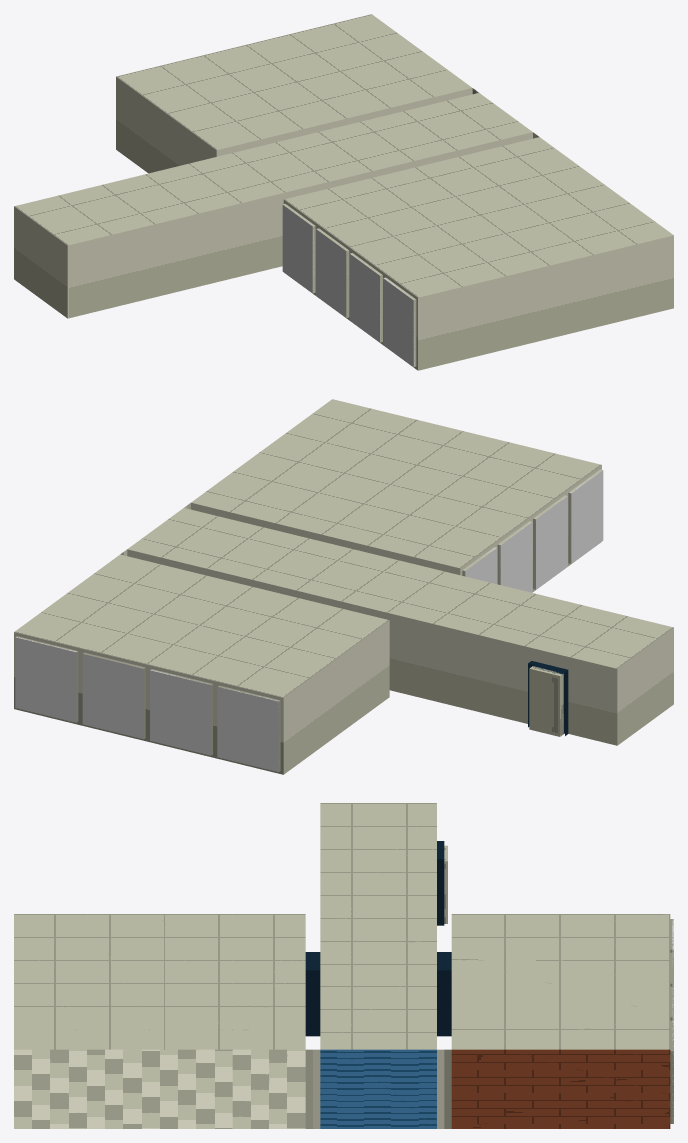
Rendered from office.glb.
The picture shows the model from 3 angles, top to bottom: view 1: azimuth 30°, elevation 25°; view 2: azimuth 150°, elevation 25°; view 3: azimuth 270°, elevation 25°; orthographic projection. The views are drawn at different scales.
Parts seen in each view (by area): view 1: OfficeProper, Hallway, Office, OfficeProperWindows; view 2: Hallway, OfficeProper, Office, OfficeWindows, OfficeProperWindows, Door3; view 3: OfficeProper, Office, Hallway.
Boxes of the visible parts, x1=… form: OfficeProper: x1=283, y1=135, x2=673, y2=370; Hallway: x1=14, y1=90, x2=536, y2=318; Office: x1=116, y1=14, x2=475, y2=173; OfficeProperWindows: x1=282, y1=205, x2=414, y2=366; Hallway: x1=123, y1=505, x2=673, y2=745; OfficeProper: x1=187, y1=399, x2=602, y2=592; Office: x1=14, y1=552, x2=389, y2=774; OfficeWindows: x1=15, y1=637, x2=278, y2=771; OfficeProperWindows: x1=464, y1=470, x2=603, y2=592; Door3: x1=529, y1=666, x2=563, y2=736; OfficeProper: x1=14, y1=914, x2=312, y2=1128; Office: x1=444, y1=914, x2=673, y2=1128; Hallway: x1=313, y1=803, x2=444, y2=1128.
Size of the model in its own units: 40 by 6 by 45.25.
Materials: 4 (4 with a texture image).
